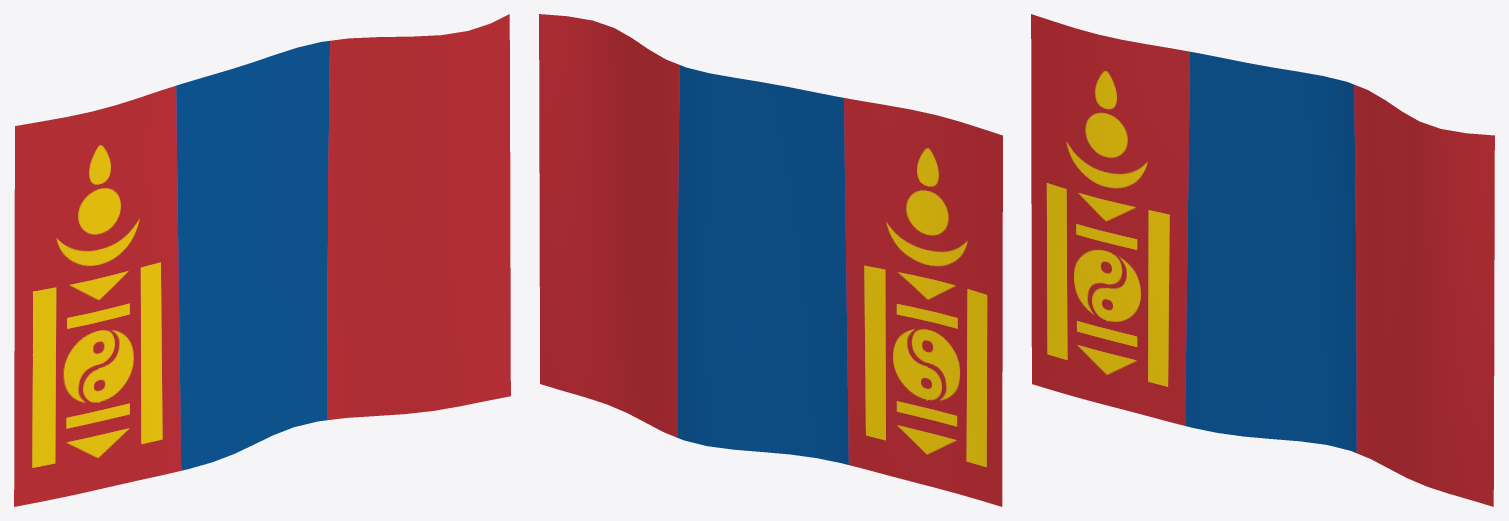
File: MN_Mongolia.glb
3 renders of one model, left to right at view 1: azimuth 30°, elevation 25°; view 2: azimuth 150°, elevation 25°; view 3: azimuth 330°, elevation 25°, orthographic. The views are drawn at different scales.
Parts seen in each view (by area): view 1: MN_flag; view 2: MN_flag; view 3: MN_flag.
Part boxes in pixels (left/top/right/bottom): MN_flag: left=14, top=14, right=510, bottom=506; MN_flag: left=539, top=14, right=1002, bottom=506; MN_flag: left=1031, top=14, right=1494, bottom=506.
Size of the model in its own units: 1.33 by 1 by 0.1347.
1 material, 1 textured.
